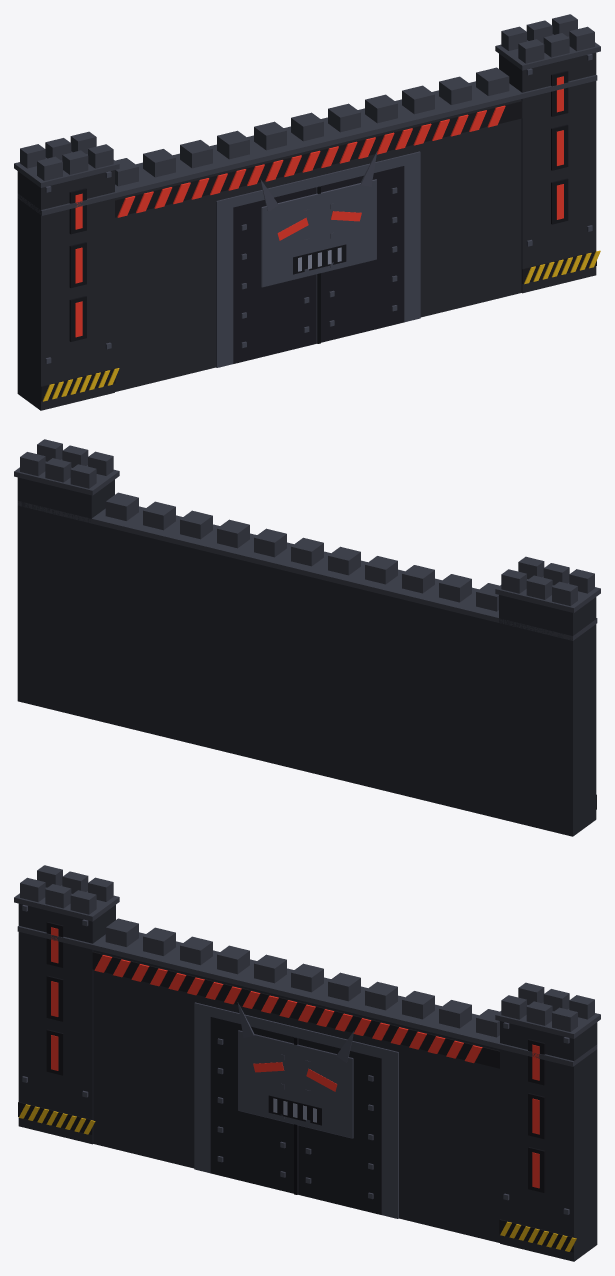
File: arena_wall_back.glb
The picture shows the model from 3 angles, top to bottom: view 1: azimuth 30°, elevation 25°; view 2: azimuth 150°, elevation 25°; view 3: azimuth 330°, elevation 25°; orthographic projection.
Parts seen in each view (by area): view 1: arena_wall_back; view 2: arena_wall_back; view 3: arena_wall_back.
Boxes of the visible parts, left/top/right/bottom form: arena_wall_back: left=14, top=14, right=600, bottom=410; arena_wall_back: left=14, top=439, right=600, bottom=836; arena_wall_back: left=14, top=865, right=600, bottom=1261.
Size of the model in its own units: 24 by 10 by 2.
1 material, 1 textured.
